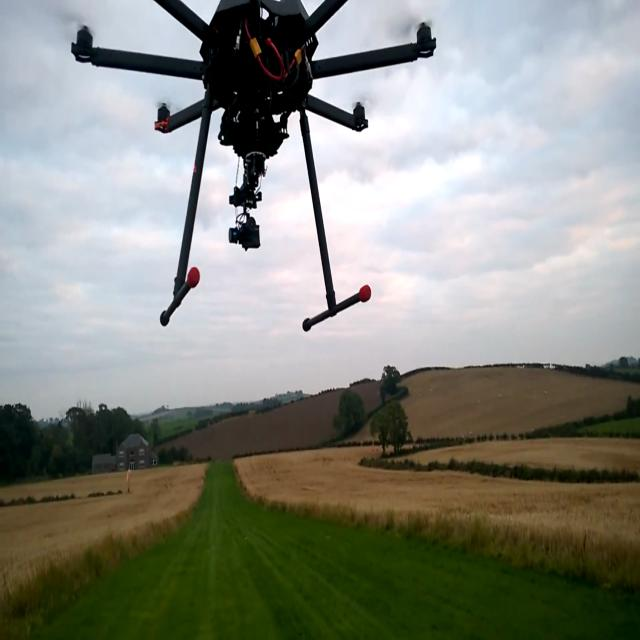drone: (100, 0, 450, 368)
